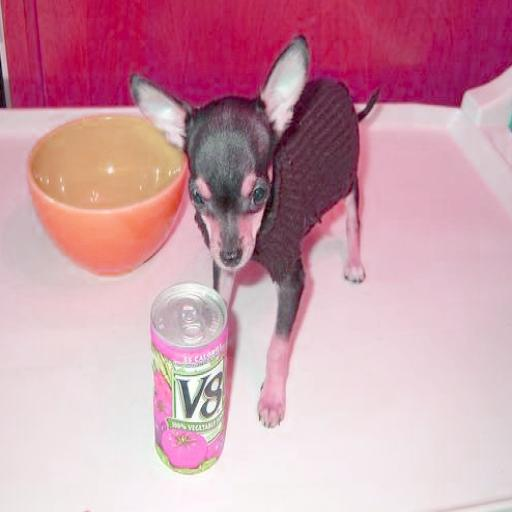dog_face: (140, 38, 296, 273)
